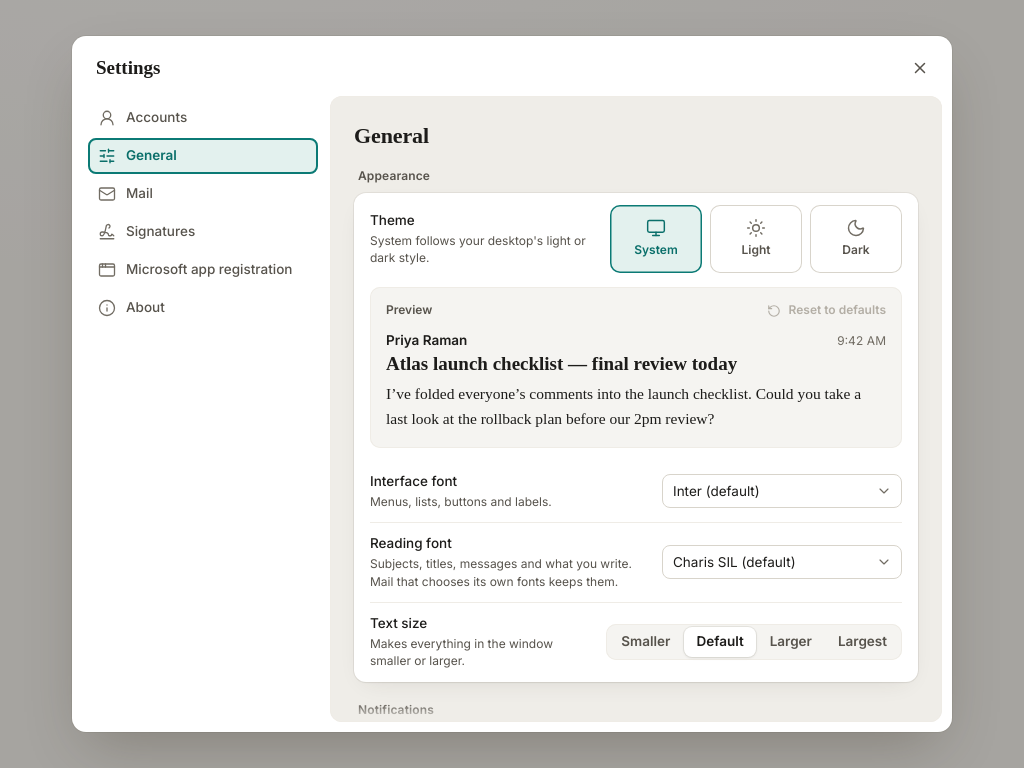
General › reports a failed save
What coordinates should you click on to do the following:
click the radio button labelled "Light"
I would click on:
 (756, 239)
Its box is [710,205,802,273].
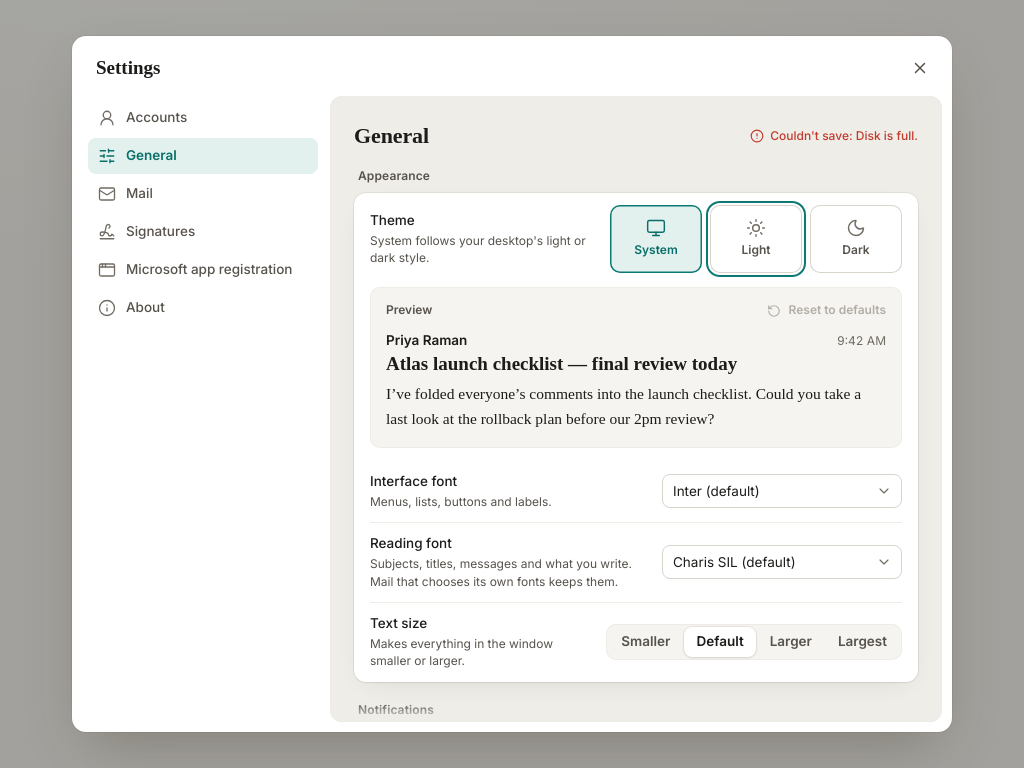
Expected: the message reads "Couldn't save: Disk is full.", [770,128,918,143]
